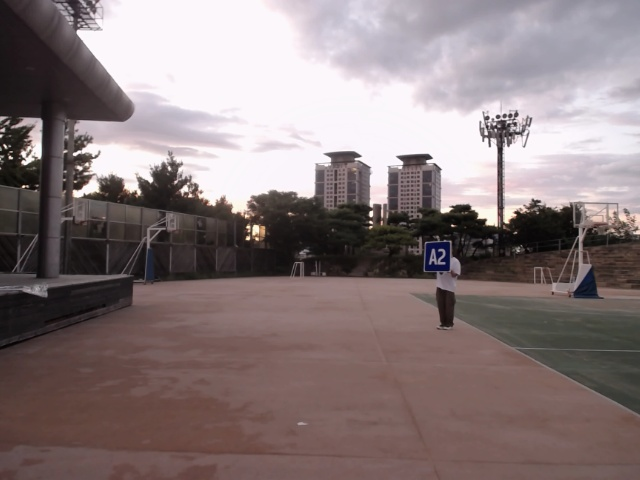delivery_a2: (424, 241, 451, 272)
